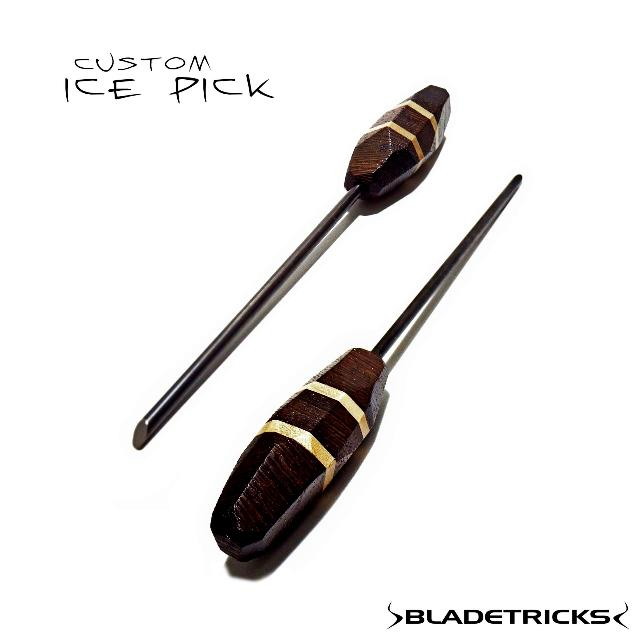ice pick: (210, 173, 524, 561), (132, 84, 452, 452)
